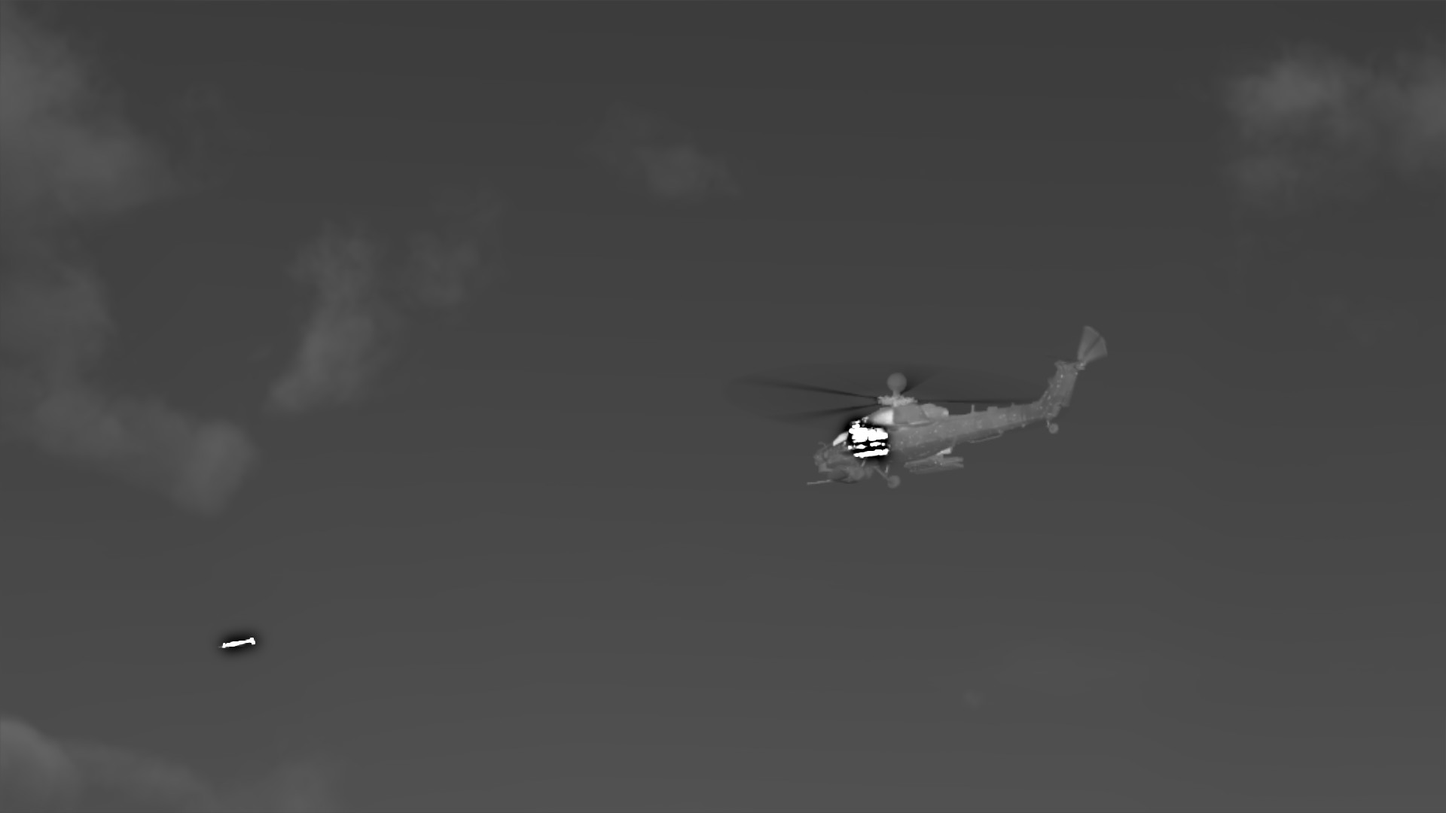mi28: (724, 325, 1112, 491)
